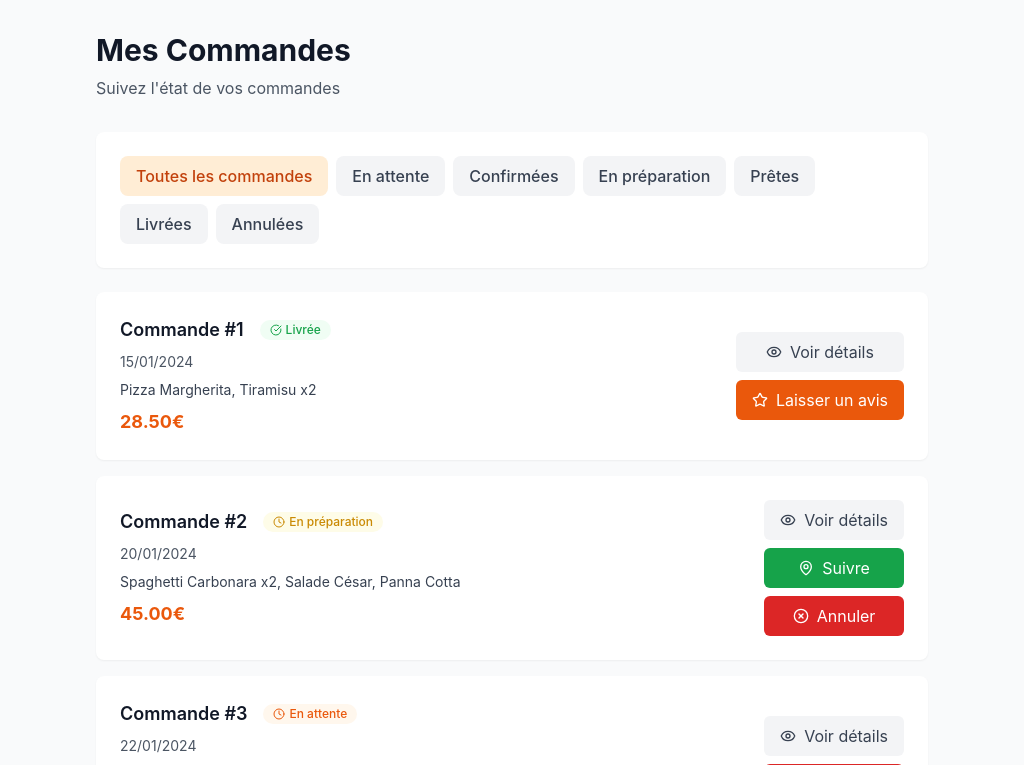
it: Orders Component › should show all orders when "Toutes les commandes" is selected
First filter by delivered orders
Click the button "Livrées" at (164, 224), box left=120, top=204, right=208, bottom=244
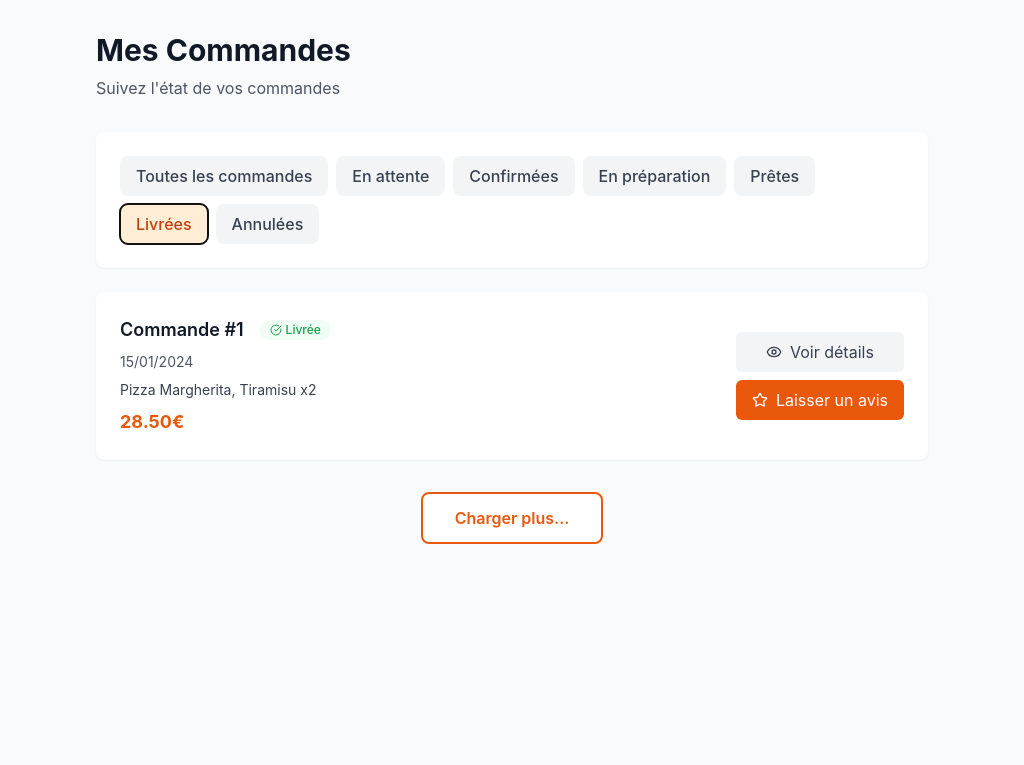
Expected: the heading "Commande #2" is gone
Then click "Toutes les commandes"
Click the button "Toutes les commandes" at (224, 176), box left=120, top=156, right=328, bottom=196
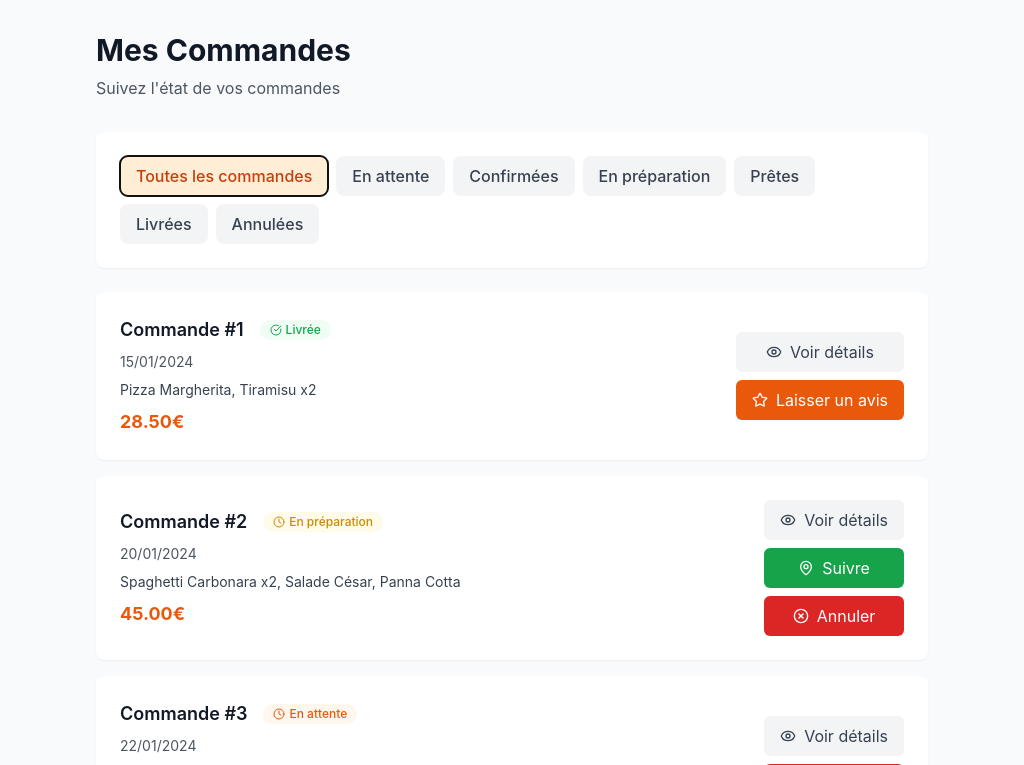
Expected: the heading "Commande #1" is shown, left=120, top=316, right=244, bottom=344
Expected: the heading "Commande #2" is shown, left=120, top=508, right=247, bottom=536
Expected: the heading "Commande #3" is shown, left=120, top=700, right=247, bottom=728
